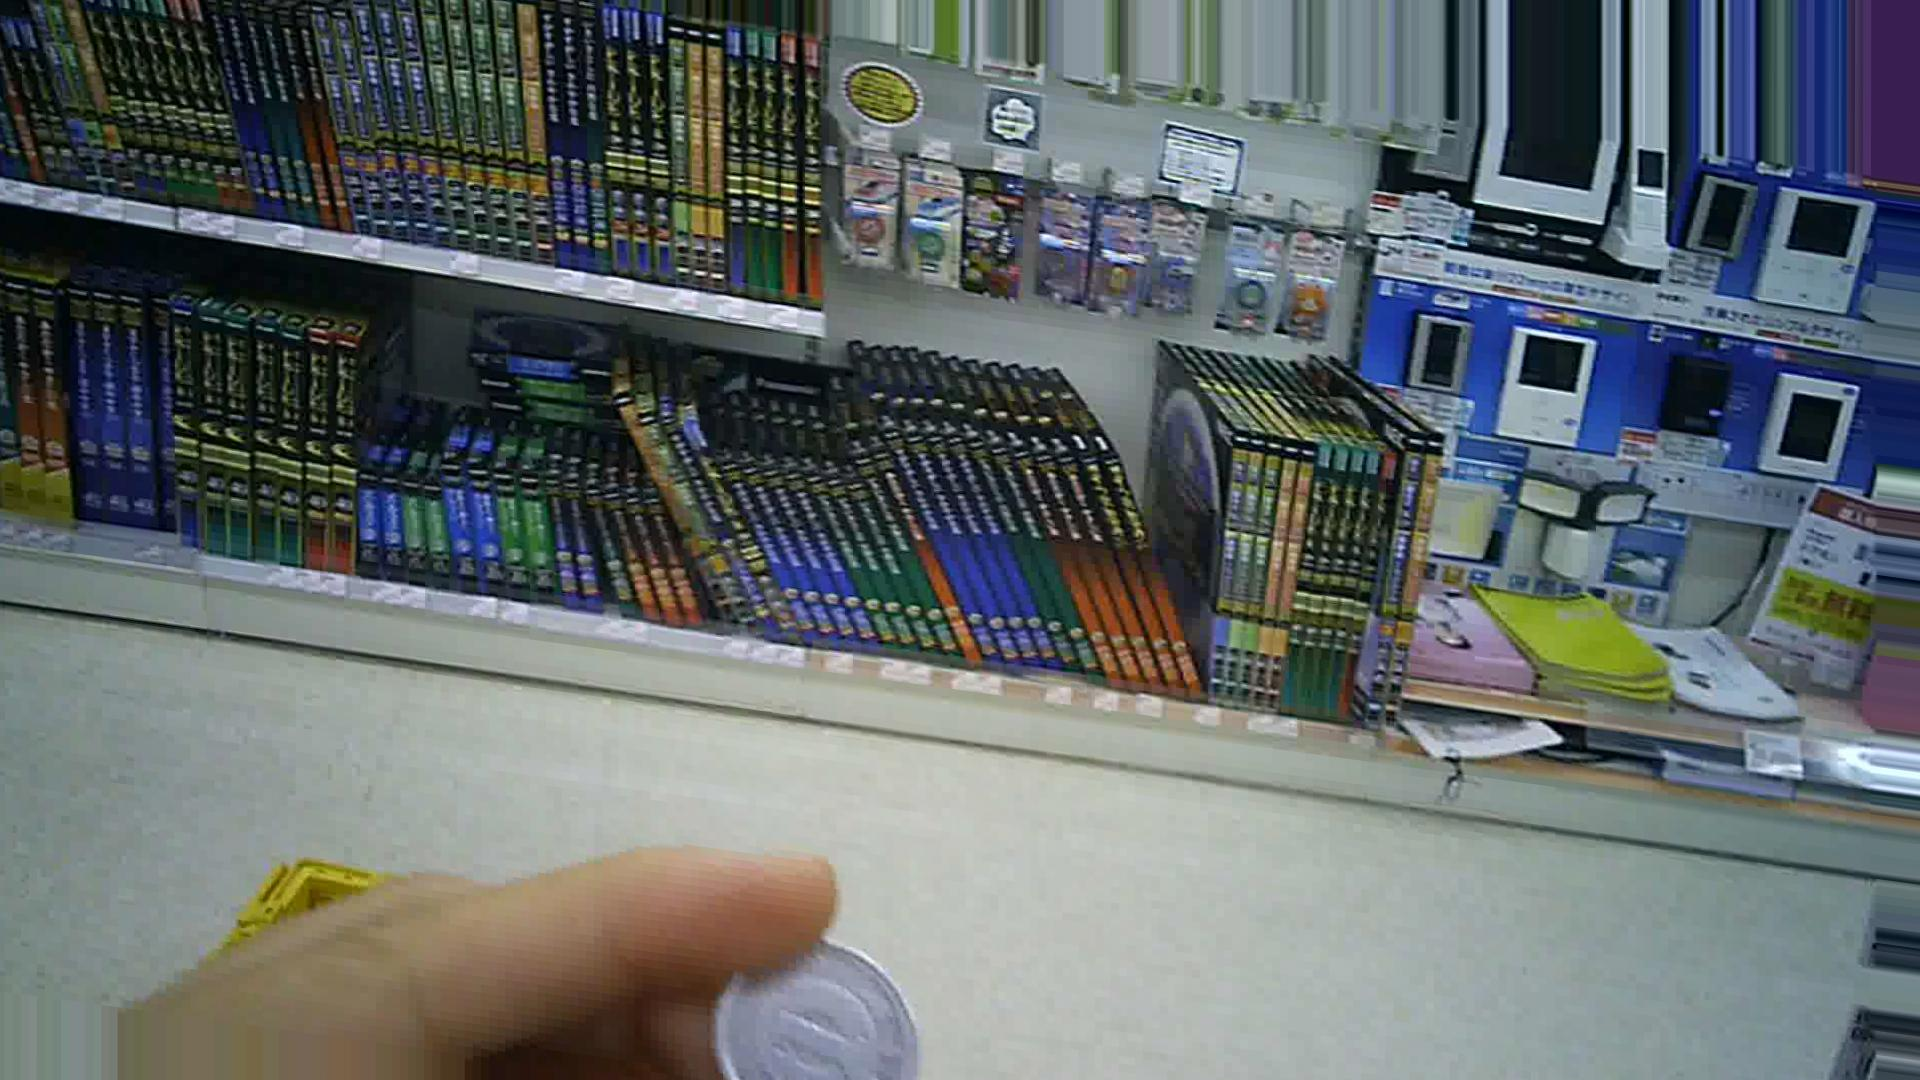1 Yen: (698, 920, 916, 1079)
